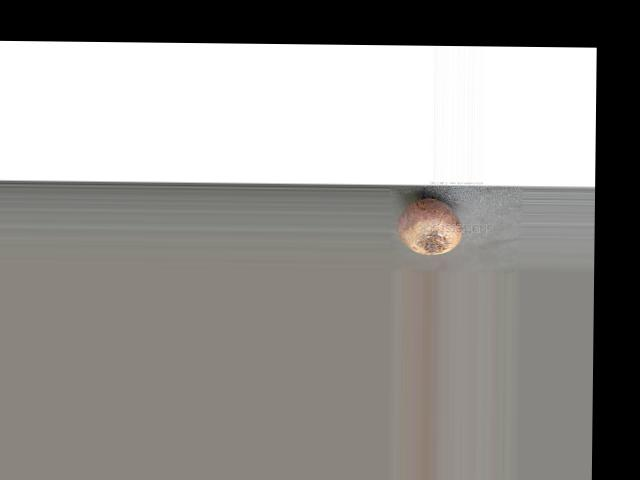beet: (395, 198, 461, 254)
